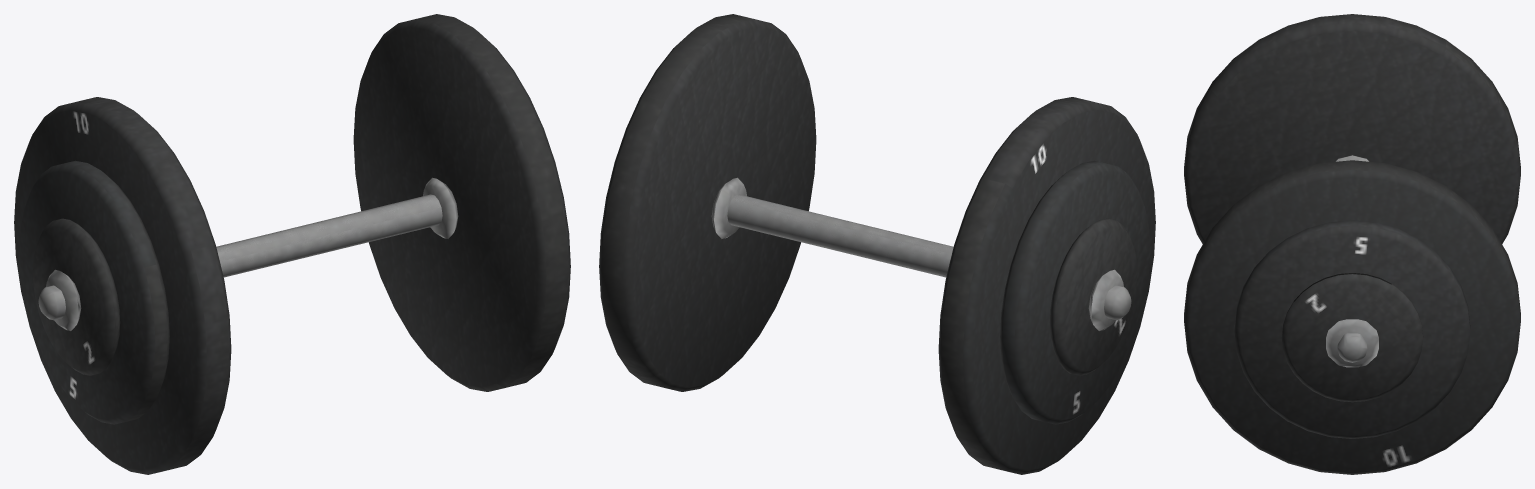
File: JuniorFactory_SlicerClone_Dumbell_v1.fbx
The picture shows the model from 3 angles, left to right: view 1: azimuth 30°, elevation 25°; view 2: azimuth 150°, elevation 25°; view 3: azimuth 270°, elevation 25°; orthographic projection. The views are drawn at different scales.
Parts seen in each view (by area): view 1: Dumbell; view 2: Dumbell; view 3: Dumbell.
Boxes of the visible parts, x1=… form: Dumbell: x1=14, y1=14, x2=570, y2=474; Dumbell: x1=599, y1=14, x2=1155, y2=474; Dumbell: x1=1184, y1=14, x2=1520, y2=474.
Size of the model in its own units: 260 by 173 by 173.
Materials: 1 (1 with a texture image).
